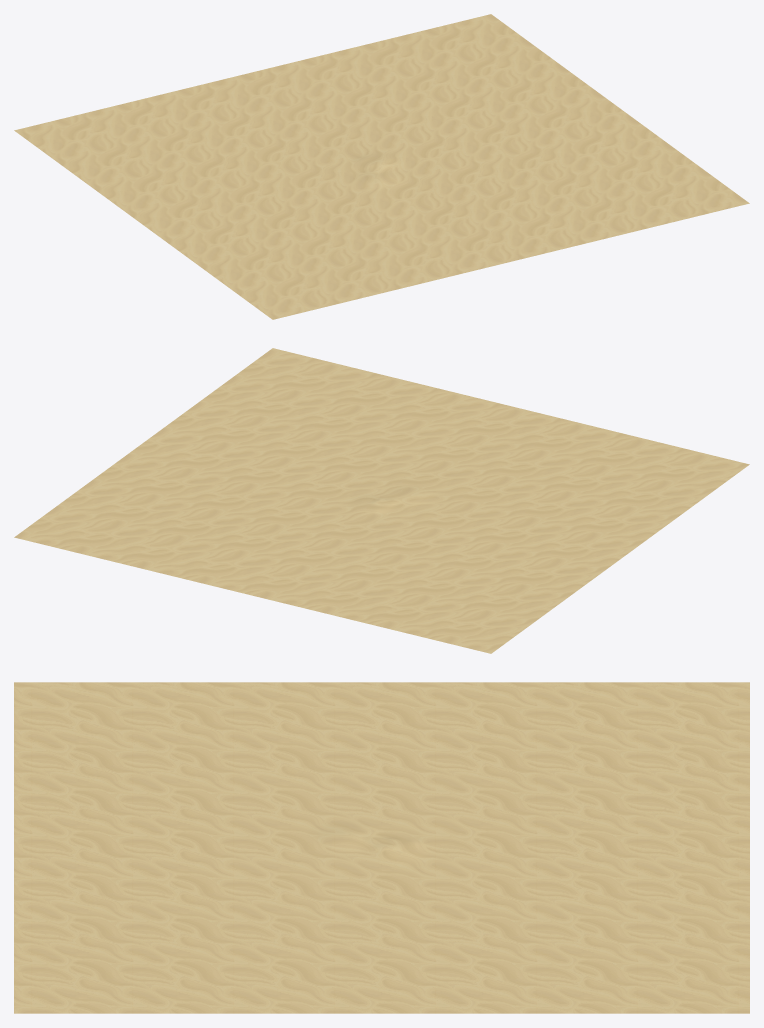
Rendered from TerrainA.FBX.
The picture shows the model from 3 angles, top to bottom: view 1: azimuth 30°, elevation 25°; view 2: azimuth 150°, elevation 25°; view 3: azimuth 270°, elevation 25°; orthographic projection. The views are drawn at different scales.
Visible parts, largest first — view 1: TerrainA; view 2: TerrainA; view 3: TerrainA.
Part boxes in pixels (<box>): TerrainA: <box>14,14,749,319</box>; TerrainA: <box>14,348,749,653</box>; TerrainA: <box>14,682,749,1013</box>.
Bounding box in the file's own units: 942 × 885 × 3.39.
Materials: 1 (1 with a texture image).
